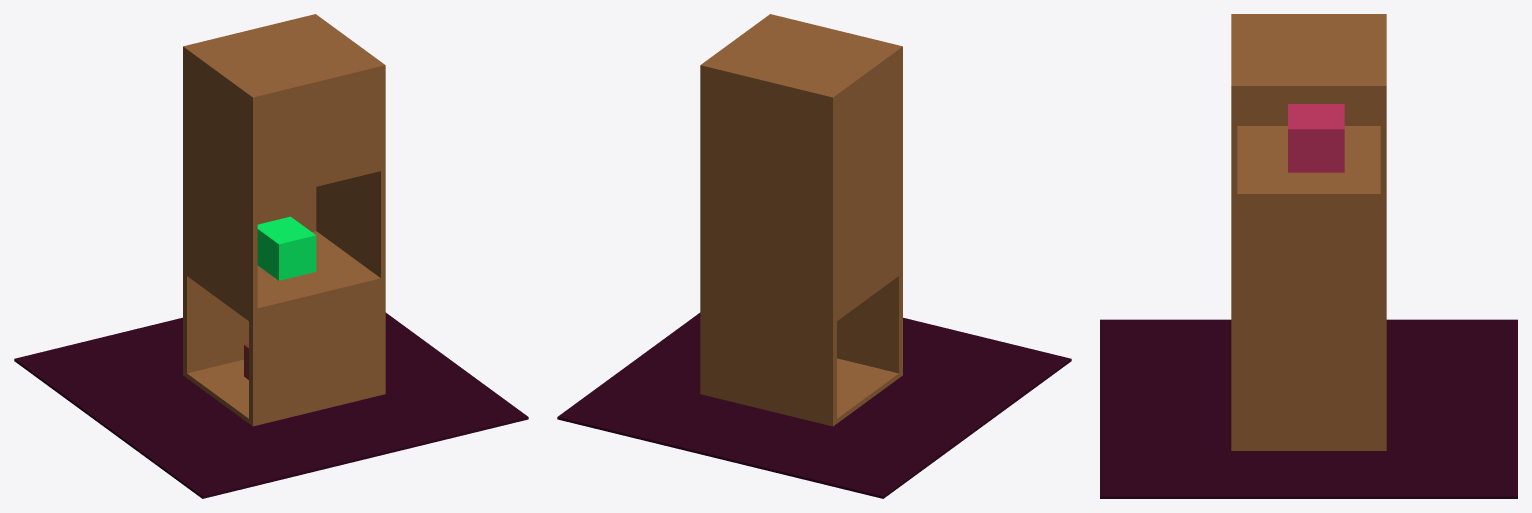
The picture shows the model from 3 angles, left to right: view 1: azimuth 30°, elevation 25°; view 2: azimuth 150°, elevation 25°; view 3: azimuth 270°, elevation 25°; orthographic projection. The views are drawn at different scales.
Visible parts, largest first — view 1: Untitled; view 2: Untitled; view 3: Untitled.
Part boxes in pixels (<box>): Untitled: <box>14,14,528,498</box>; Untitled: <box>557,14,1071,498</box>; Untitled: <box>1100,14,1517,498</box>.
Size of the model in its own units: 14 by 13.6 by 14.
Materials: 1 (1 with a texture image).
